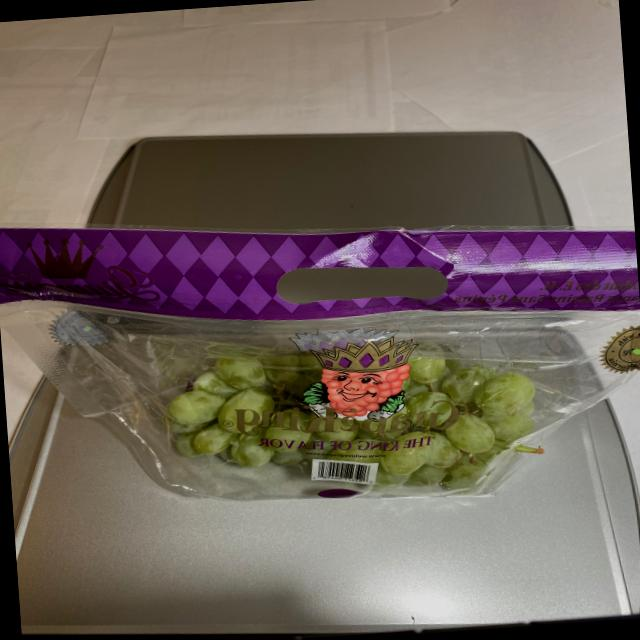grapes: (139, 312, 549, 510)
